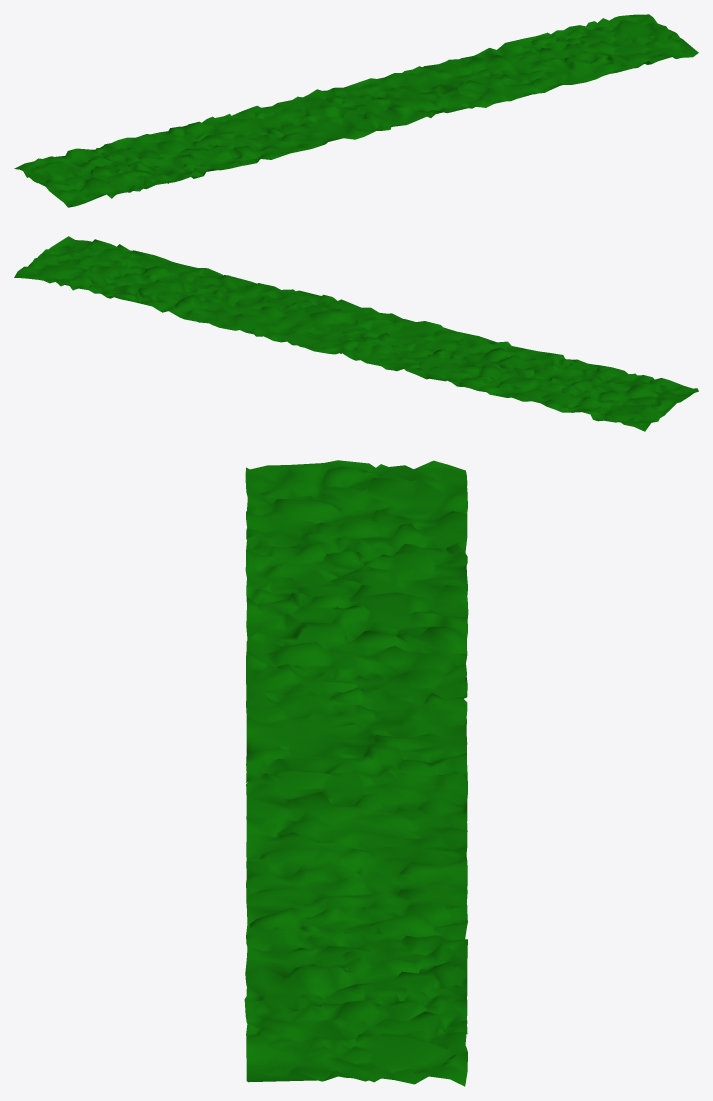
Rendered from Stones3.FBX.
3 renders of one model, top to bottom at view 1: azimuth 30°, elevation 25°; view 2: azimuth 150°, elevation 25°; view 3: azimuth 270°, elevation 25°, orthographic. The views are drawn at different scales.
Visible parts, largest first — view 1: Stones2_LOW; view 2: Stones2_LOW; view 3: Stones2_LOW.
Boxes of the visible parts, x1,y1,x2,y2 form: Stones2_LOW: (14,14,698,207); Stones2_LOW: (14,236,698,431); Stones2_LOW: (244,460,468,1086).
Size of the model in its own units: 400 by 6.15 by 61.42.
